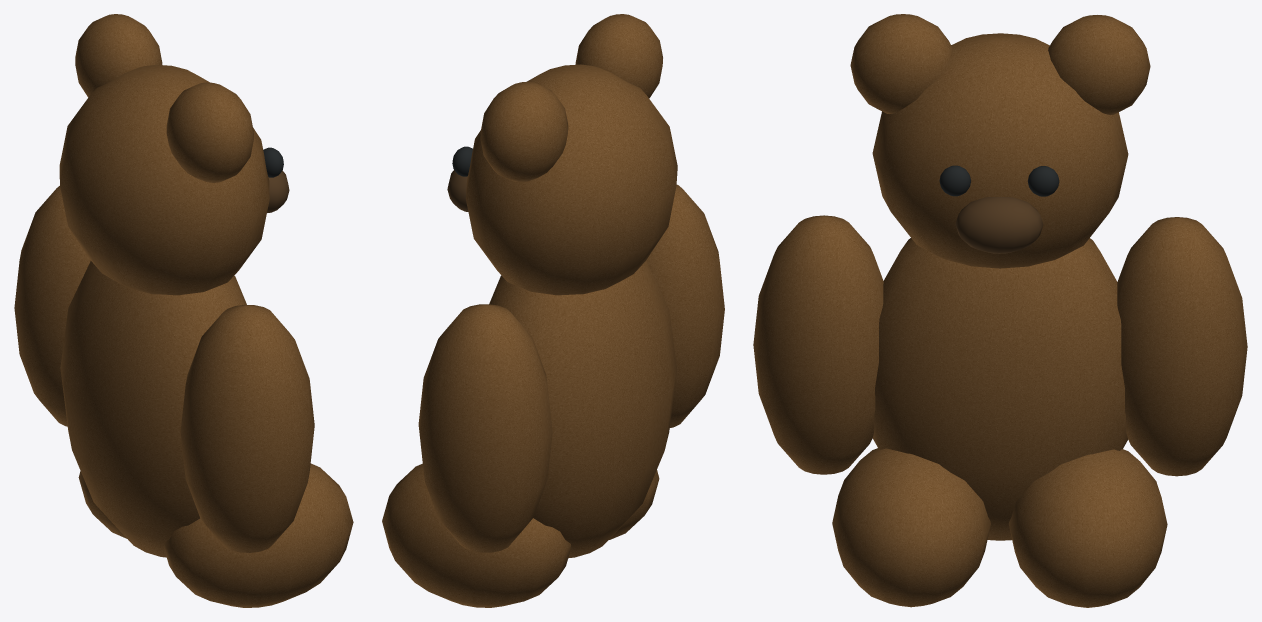
Rendered from SM_TeddyPrize_9bafddc131.fbx.
3 views of the same model, side by side, from view 1: azimuth 30°, elevation 25°; view 2: azimuth 150°, elevation 25°; view 3: azimuth 270°, elevation 25° (orthographic). The views are drawn at different scales.
Parts seen in each view (by area): view 1: SM_TeddyPrize_9bafddc131; view 2: SM_TeddyPrize_9bafddc131; view 3: SM_TeddyPrize_9bafddc131.
Boxes of the visible parts, x1,y1,x2,y2 form: SM_TeddyPrize_9bafddc131: (14, 14, 353, 607); SM_TeddyPrize_9bafddc131: (382, 14, 724, 607); SM_TeddyPrize_9bafddc131: (753, 14, 1247, 607).
Size of what is drawn, in the model's own units: 29.31 by 52.77 by 65.03.
3 materials, 1 textured.
